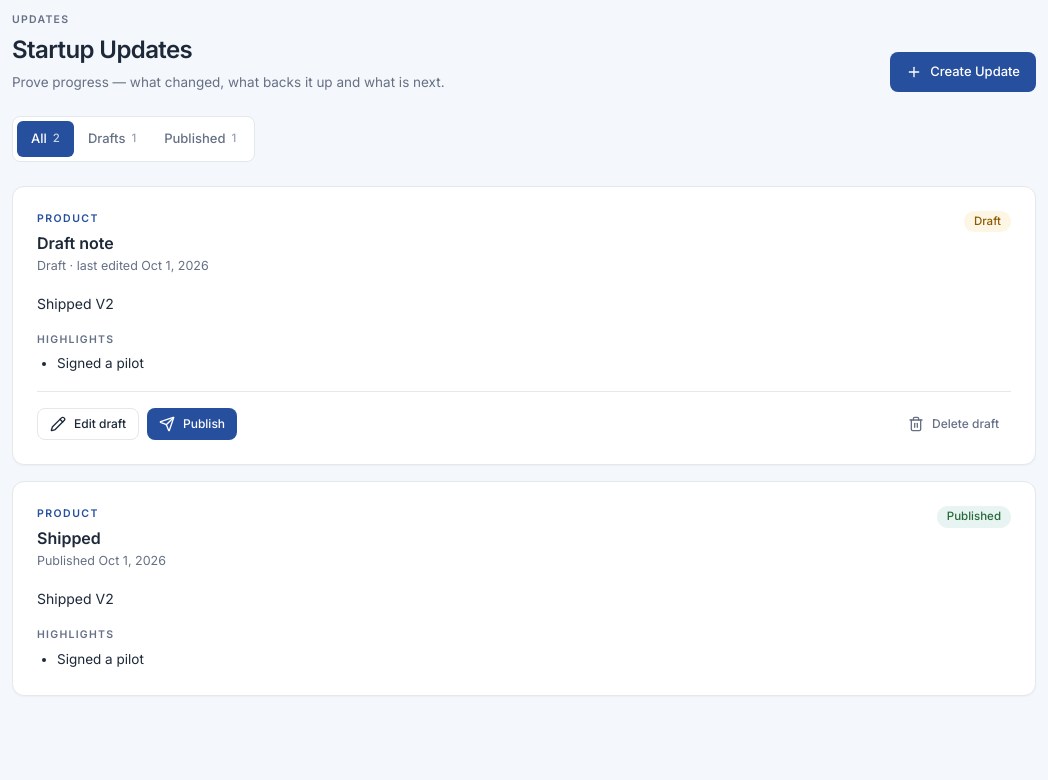
Test: UpdatesPage › filters by tab
Click the tab "Drafts 1": {"x": 112, "y": 139} [74, 121, 150, 157]
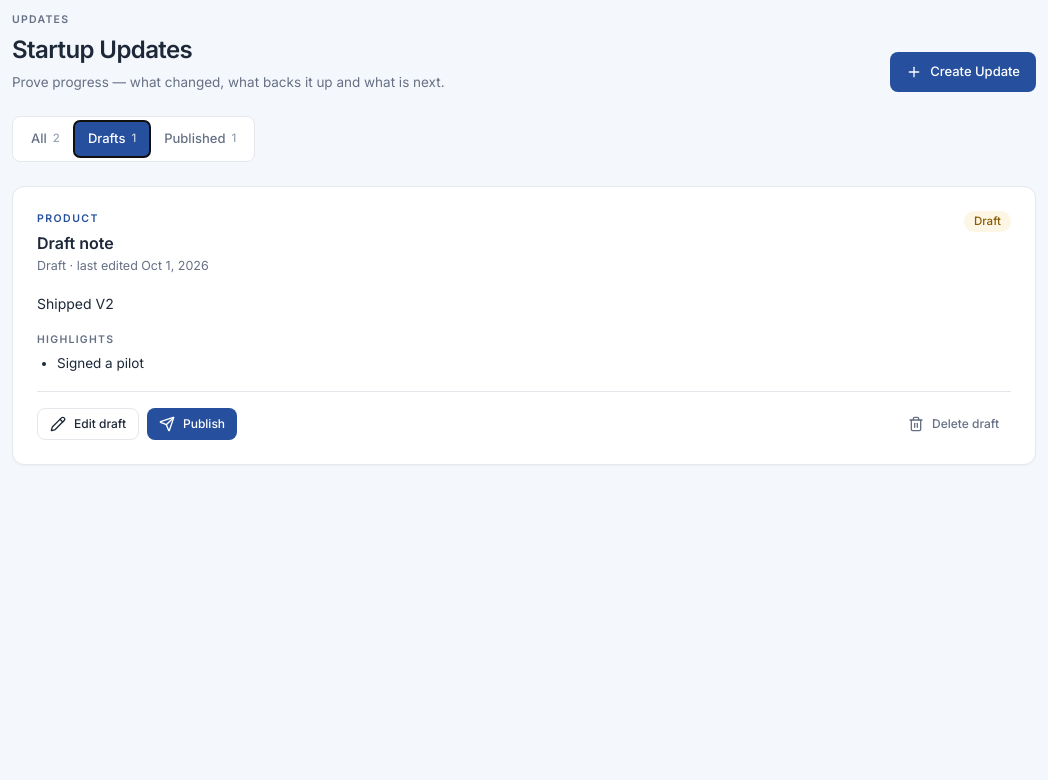
Expected: the heading "Draft note" is shown, [37, 233, 114, 253]
Click the tab "Published 1": {"x": 200, "y": 139} [150, 121, 250, 157]
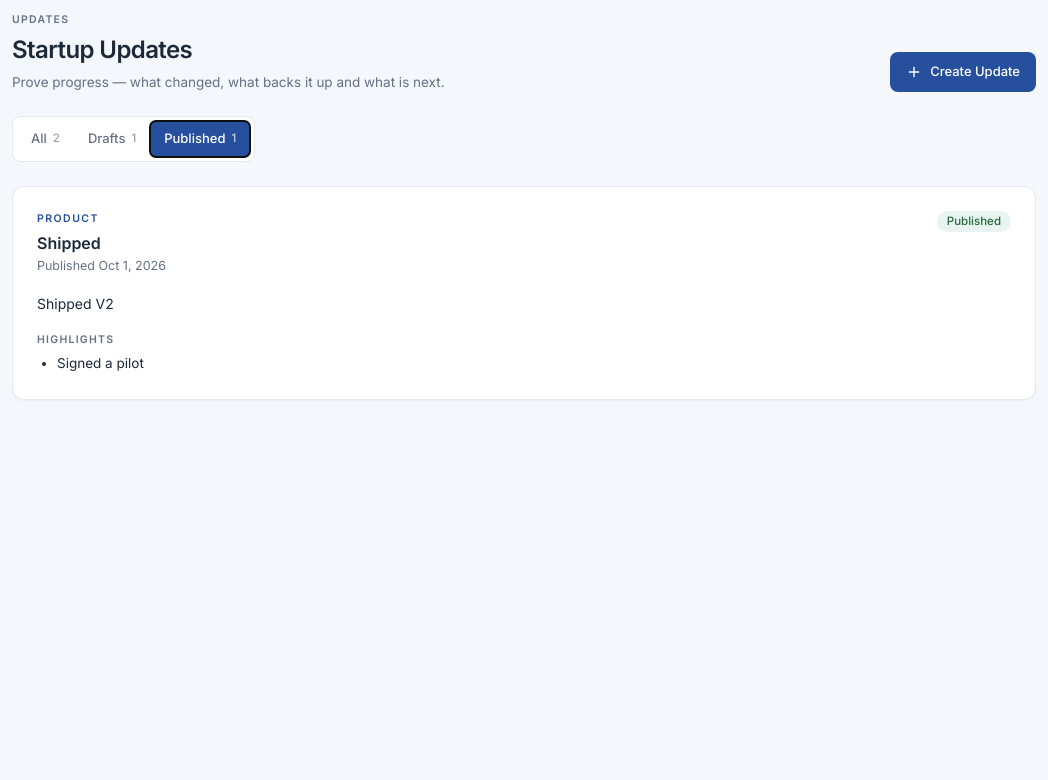
Expected: the heading "Shipped" is shown, [37, 233, 101, 253]
Expected: the heading "Draft note" is gone
